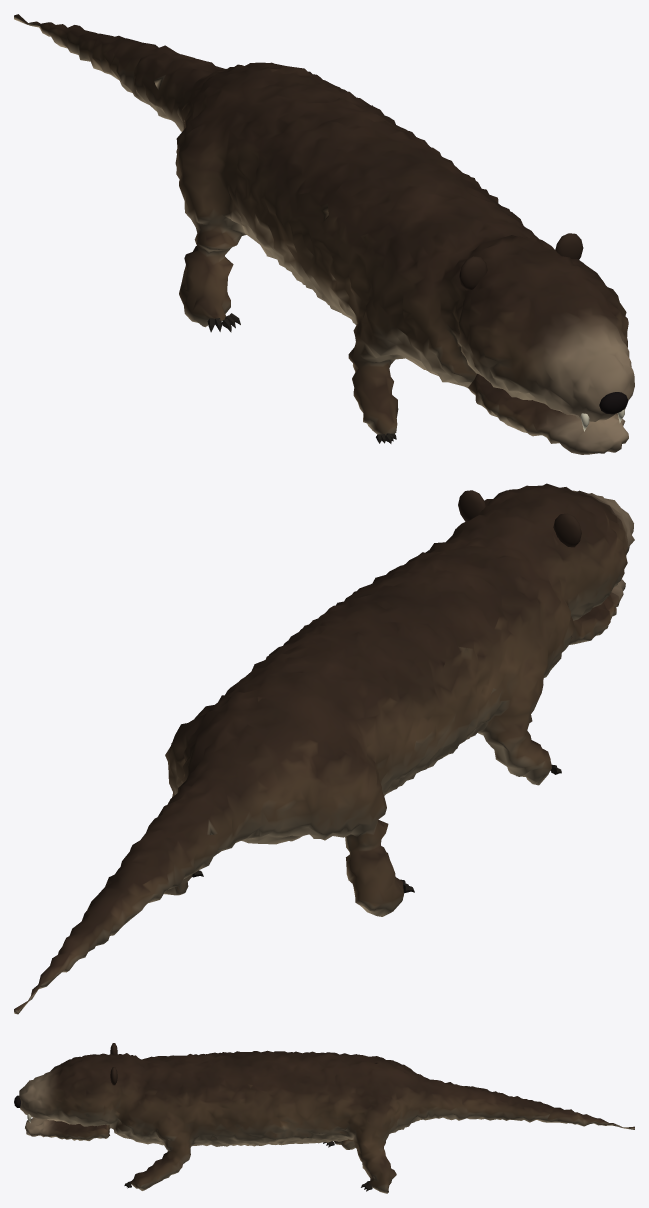
The model's file is Didelphodon.fbx.
The picture shows the model from 3 angles, top to bottom: view 1: azimuth 30°, elevation 25°; view 2: azimuth 150°, elevation 25°; view 3: azimuth 270°, elevation 25°; orthographic projection. The views are drawn at different scales.
Visible parts, largest first — view 1: Didelphodon; view 2: Didelphodon; view 3: Didelphodon.
Part boxes in pixels (left/top/right/bottom): Didelphodon: left=14, top=14, right=634, bottom=454; Didelphodon: left=14, top=483, right=634, bottom=1014; Didelphodon: left=14, top=1043, right=634, bottom=1193.
Bounding box in the file's own units: 0.335 × 0.3347 × 1.64.
